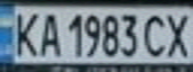1: (63, 10, 84, 57)
3: (118, 10, 142, 58)
8: (100, 11, 121, 57)
9: (81, 10, 103, 57)
A: (36, 9, 63, 57)
C: (139, 10, 169, 58)
K: (6, 8, 42, 57)
X: (163, 10, 193, 58)
